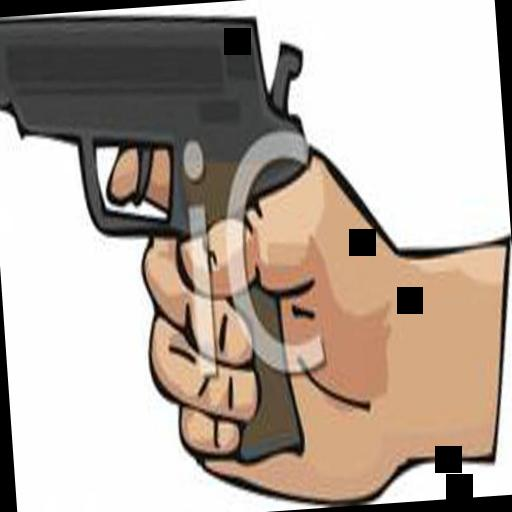Handgun: (0, 0, 328, 487)
